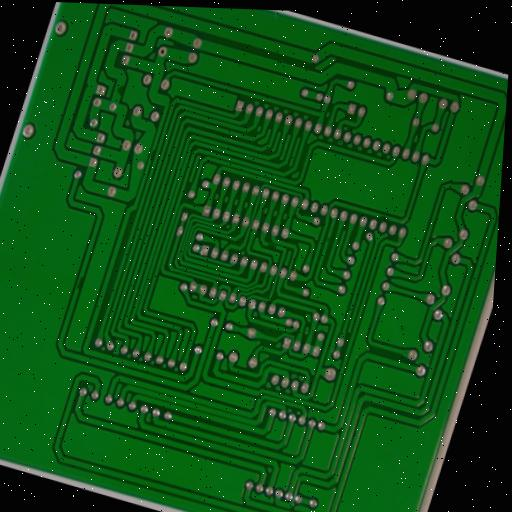mouse_bite: (111, 77, 129, 102), (73, 272, 87, 292), (146, 145, 158, 166), (377, 212, 393, 224), (264, 241, 280, 252)
